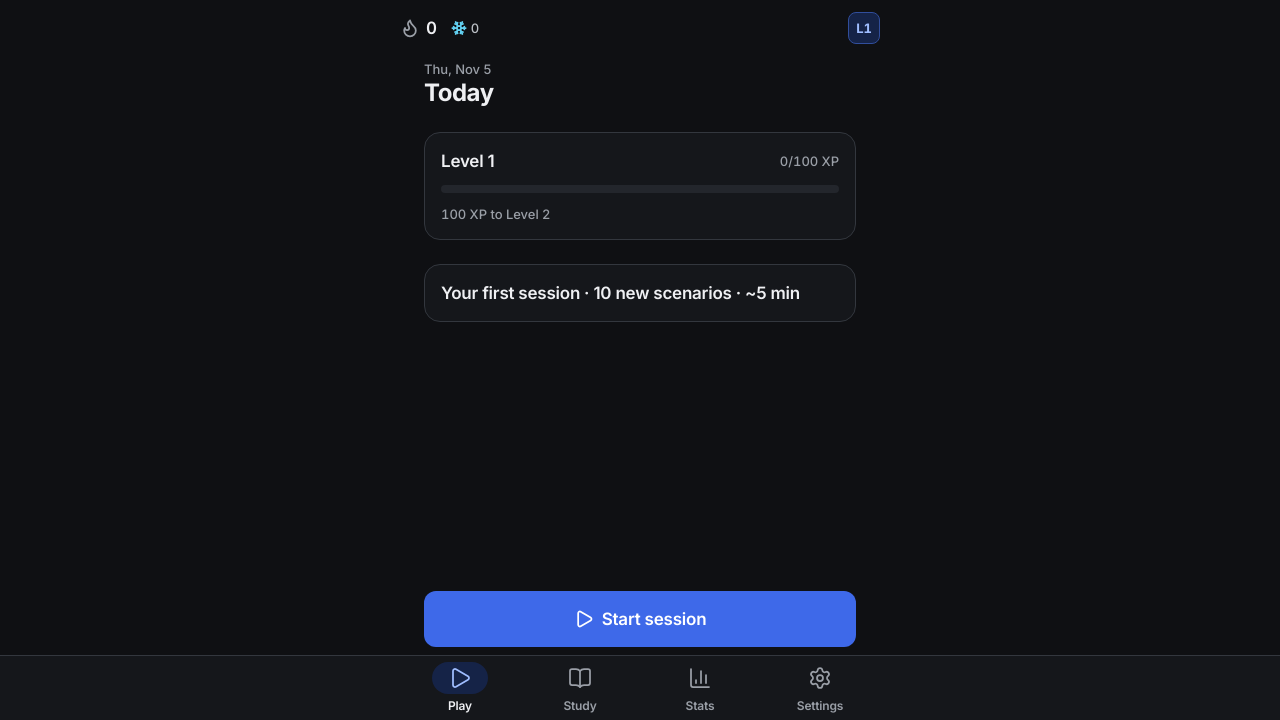
Test: AppShell navigation › tapping Study navigates, titles the TopBar and moves aria-current
Click the link "Study" at (580, 690), box [563,666,597,713]
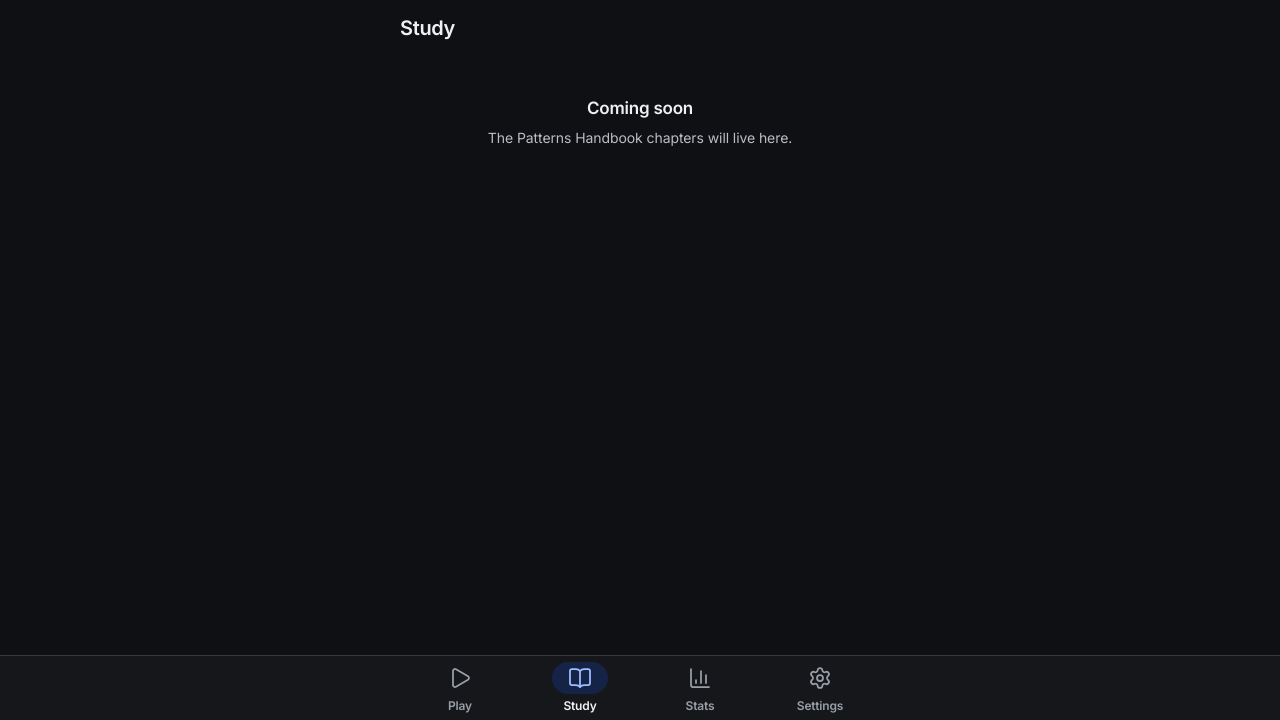
Expected: the heading "Study" is shown, [400,14,455,40]
Expected: the heading "Coming soon" is shown, [587,96,693,120]
